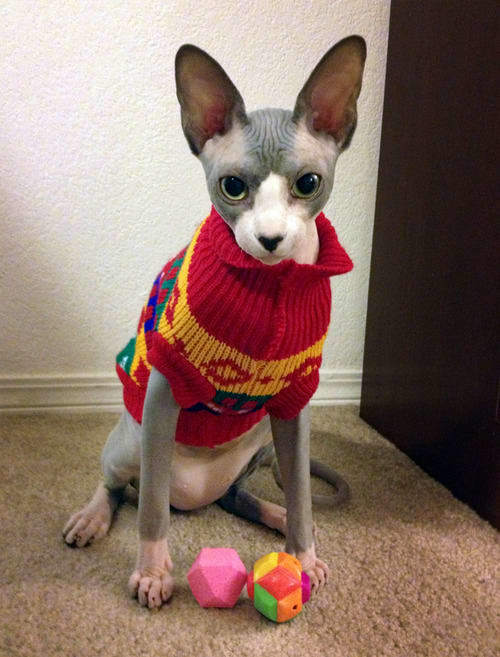Sphynx: (60, 2, 371, 624)
